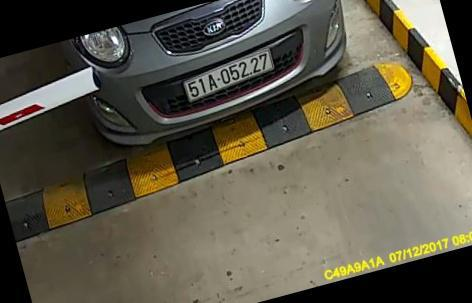License_Plate: (183, 51, 288, 112)
